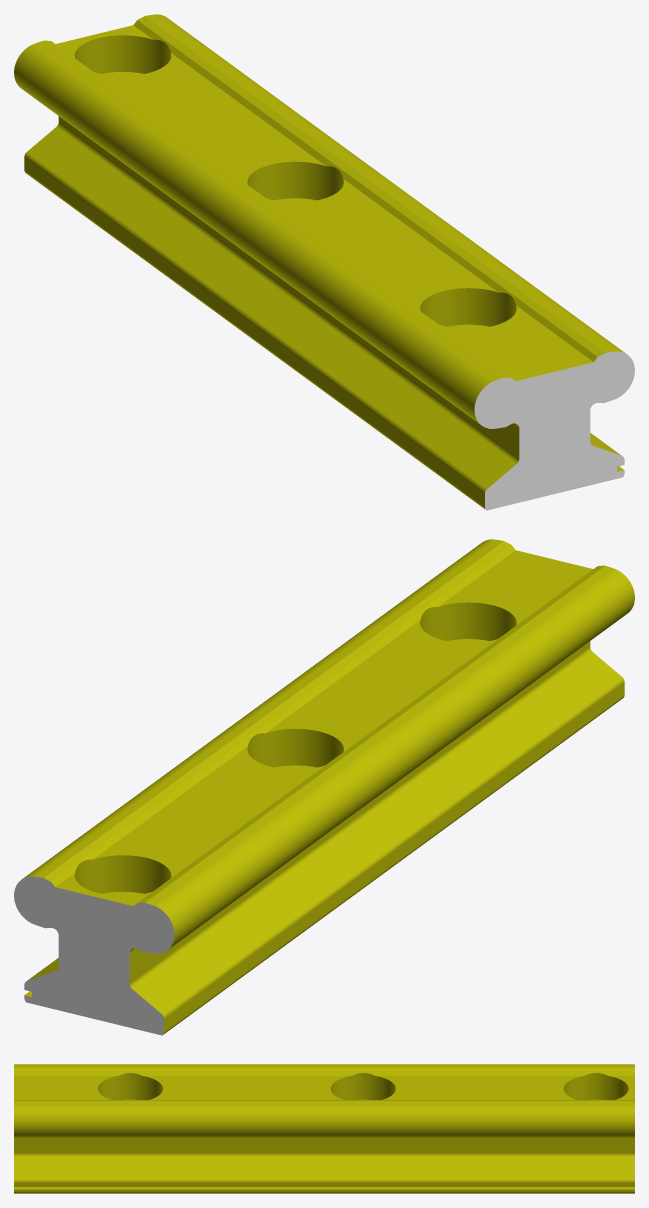
Rendered from rail.glb.
The picture shows the model from 3 angles, top to bottom: view 1: azimuth 30°, elevation 25°; view 2: azimuth 150°, elevation 25°; view 3: azimuth 270°, elevation 25°; orthographic projection. The views are drawn at different scales.
Parts seen in each view (by area): view 1: U7uTiO2p7I_CADModel_0; view 2: U7uTiO2p7I_CADModel_0; view 3: U7uTiO2p7I_CADModel_0.
Boxes of the visible parts, left/top/right/bottom form: U7uTiO2p7I_CADModel_0: left=14, top=14, right=634, bottom=510; U7uTiO2p7I_CADModel_0: left=14, top=539, right=634, bottom=1035; U7uTiO2p7I_CADModel_0: left=14, top=1064, right=634, bottom=1193.
Size of the model in its own units: 0.00805 by 0.00617 by 0.04.
